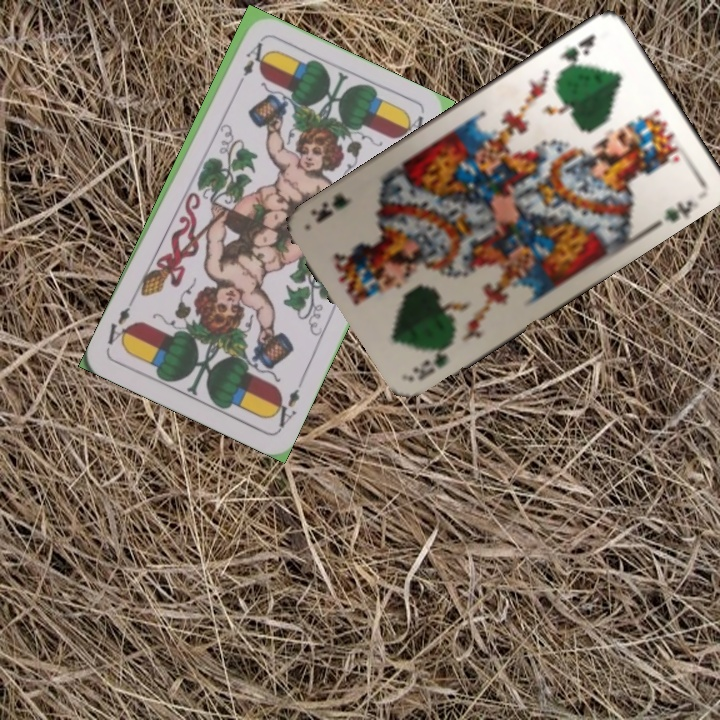EA: (267, 377, 306, 433), (232, 38, 265, 92)
GK: (408, 337, 456, 383), (555, 30, 599, 75)
